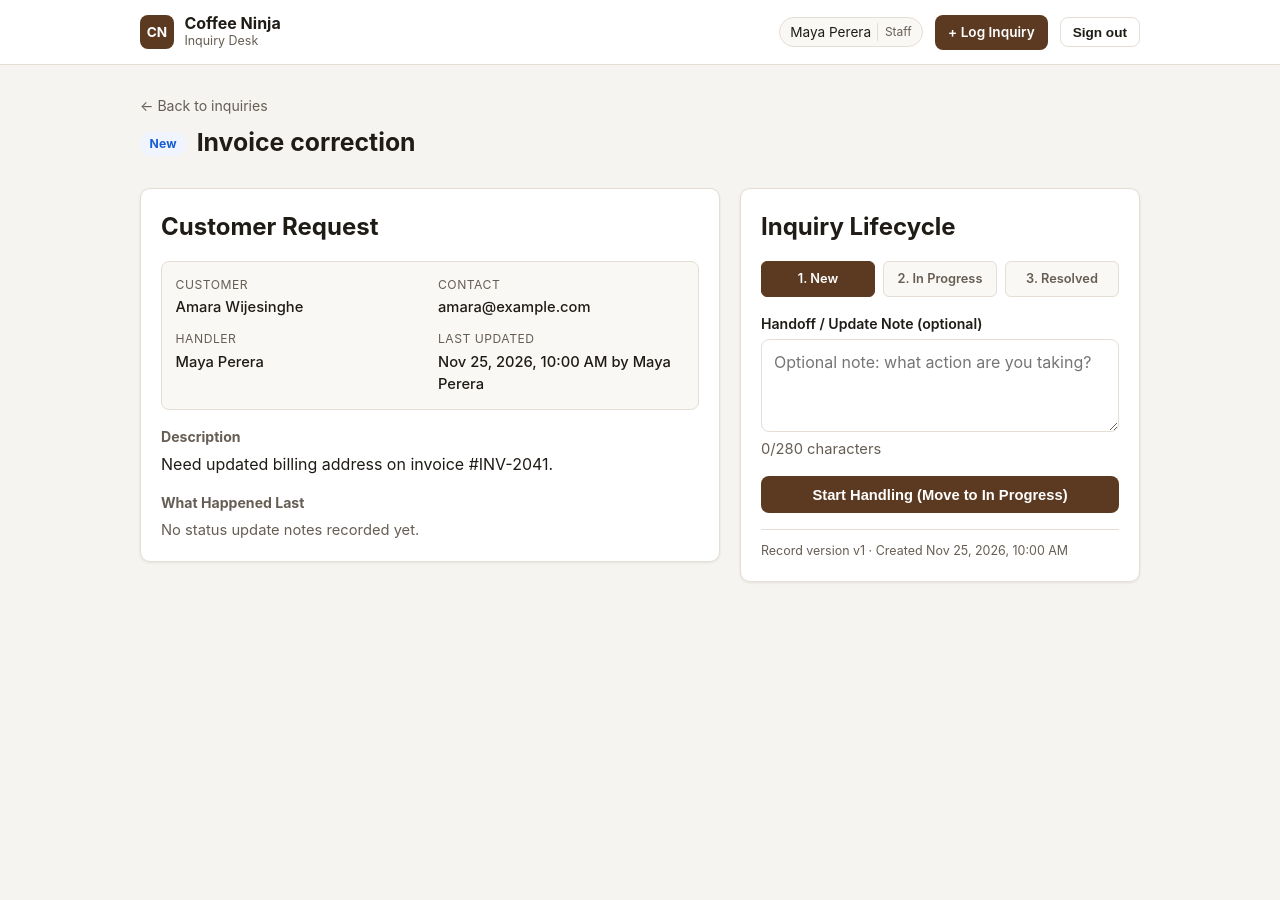
it: Customer Inquiry UI › displays stale-data conflict banner and lets the user load latest state
Click the button "Start Handling (Move to In Progress)". click: point(940, 495)
box: [761,476,1119,513]
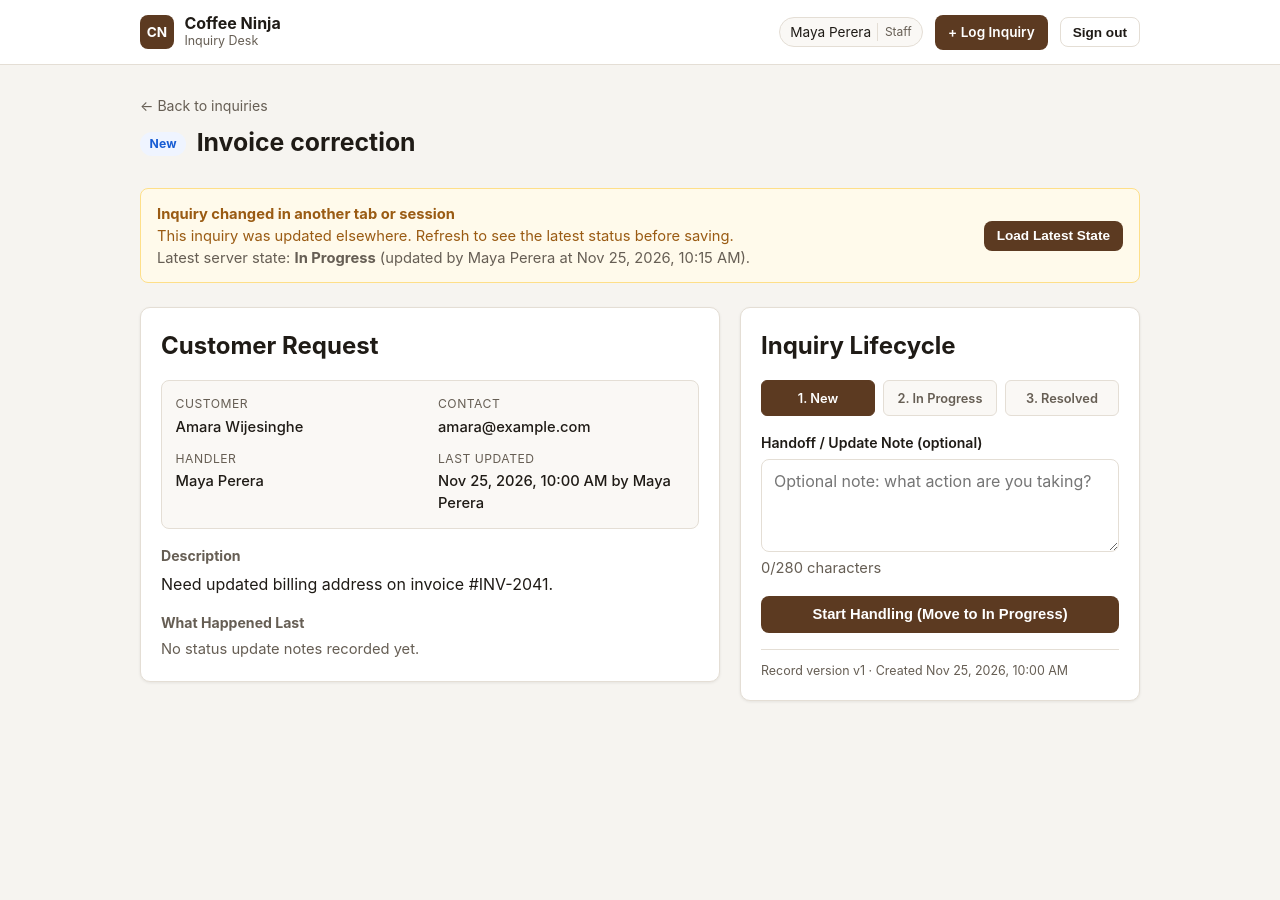
Check: the text "Inquiry changed in another tab or session" is shown, box [157,205,455,223]
Click the button "Load Latest State". click: point(1053, 236)
box: [984,221,1123,251]
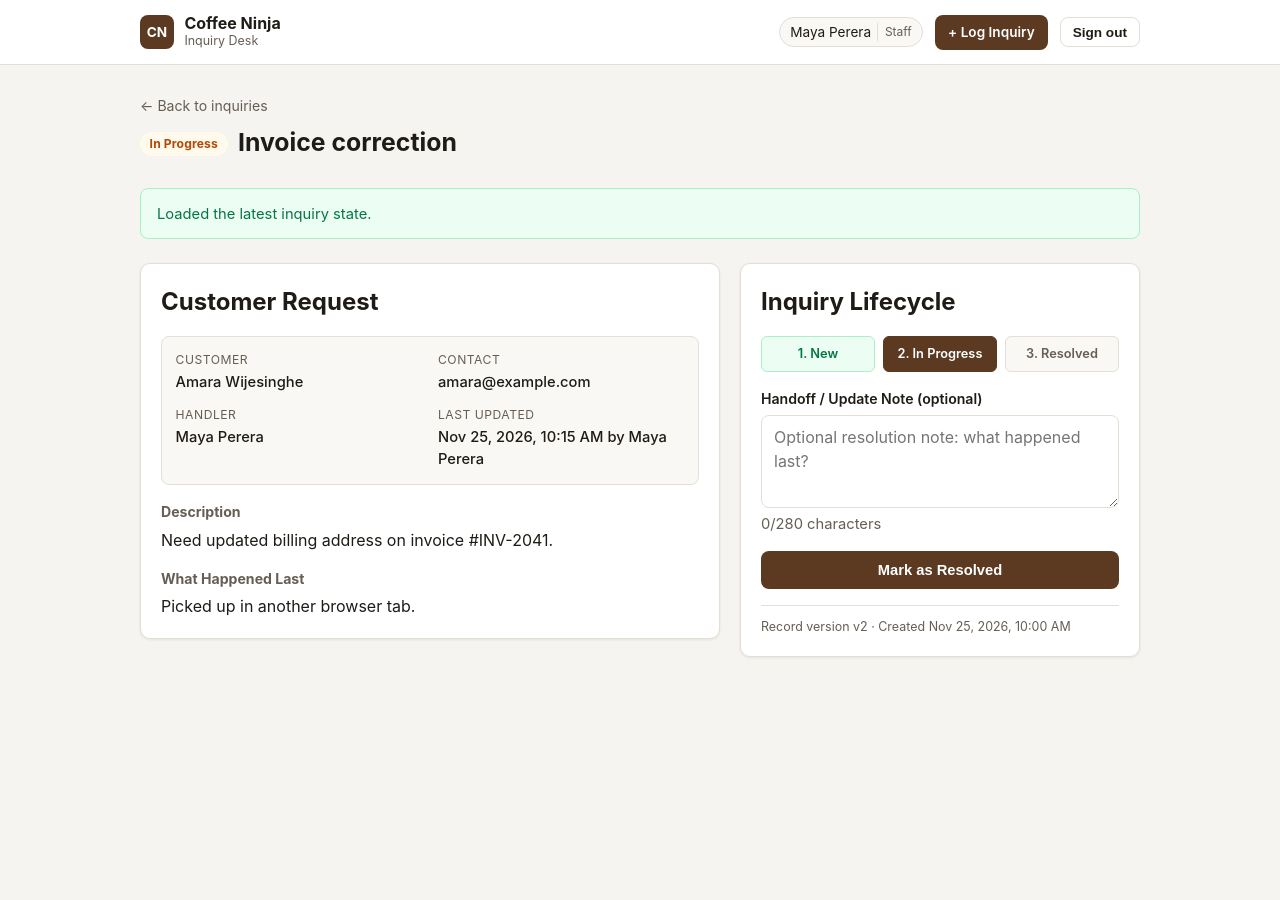
Check: the text "Picked up in another browser tab." is shown, box [161,596,415,616]
Check: the button "Mark as Resolved" is shown, box [761,551,1119,589]
